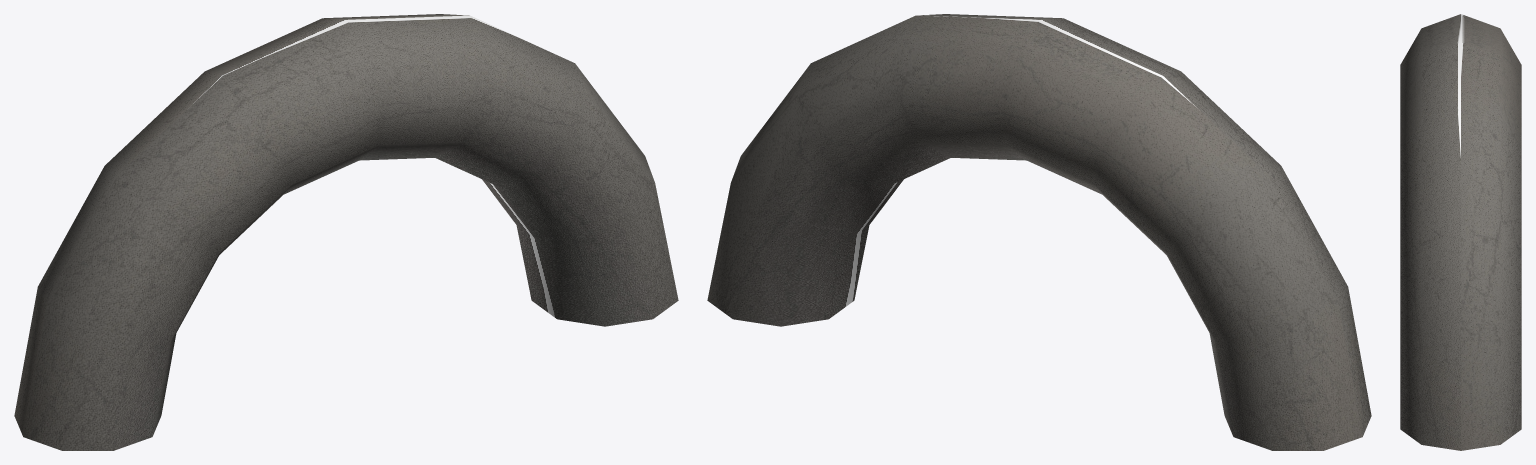
File: tunnel.fbx
3 renders of one model, left to right at view 1: azimuth 30°, elevation 25°; view 2: azimuth 150°, elevation 25°; view 3: azimuth 270°, elevation 25°, orthographic. The views are drawn at different scales.
Visible parts, largest first — view 1: Tunnel; view 2: Tunnel; view 3: Tunnel.
Boxes of the visible parts, x1=… form: Tunnel: x1=14, y1=14, x2=678, y2=450; Tunnel: x1=707, y1=14, x2=1371, y2=450; Tunnel: x1=1400, y1=14, x2=1521, y2=450.
Size of the model in its own units: 14.43 by 7.21 by 2.84.
